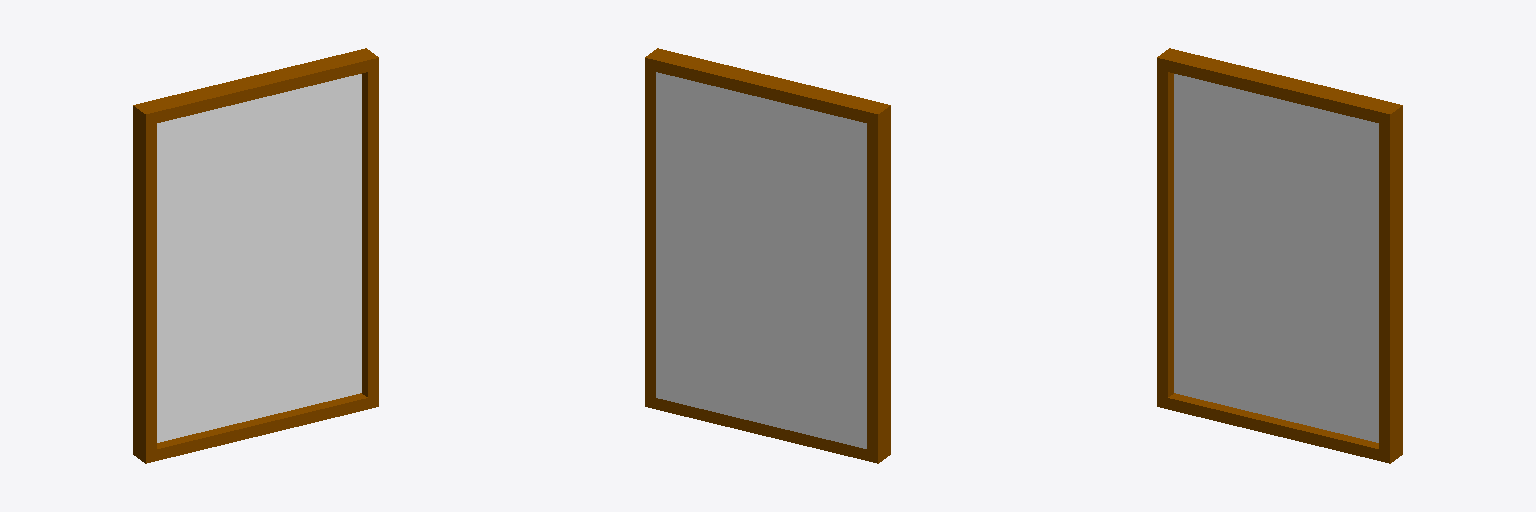
The picture shows the model from 3 angles: view 1: azimuth 30°, elevation 25°; view 2: azimuth 150°, elevation 25°; view 3: azimuth 330°, elevation 25°; orthographic projection.
Visible parts, largest first — view 1: object 1; view 2: object 1; view 3: object 1.
Boxes of the visible parts, x1=… form: object 1: x1=133, y1=48, x2=378, y2=463; object 1: x1=645, y1=48, x2=890, y2=463; object 1: x1=1157, y1=48, x2=1402, y2=463.
Bounding box in the file's own units: 2.1 × 3 × 0.2.
Materials: 1 (1 with a texture image).